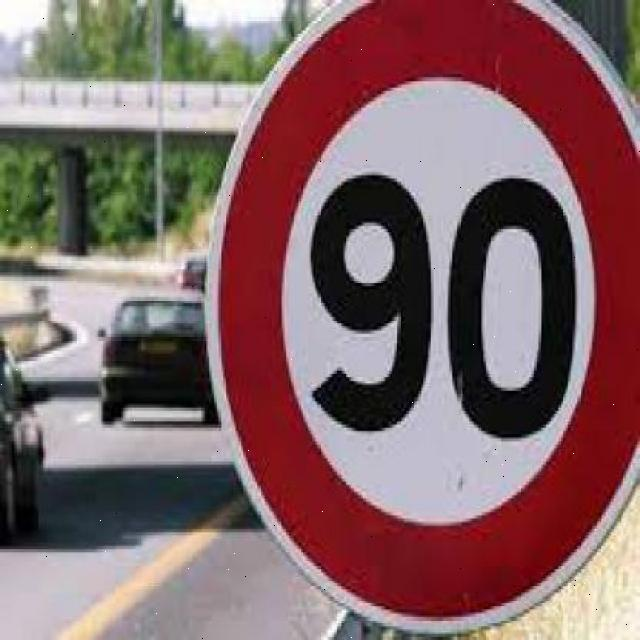speed limit 90: (204, 0, 640, 636)
